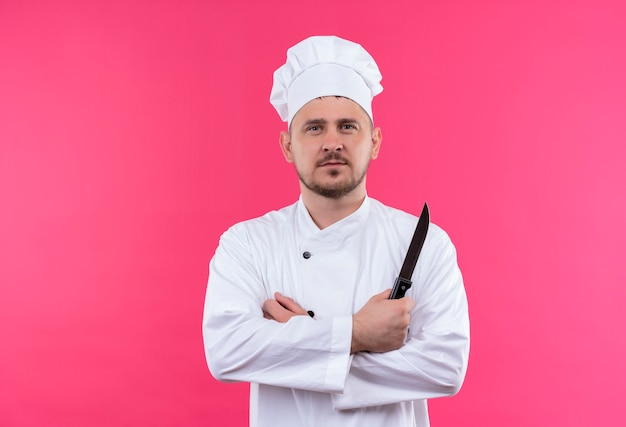knife: (392, 201, 431, 284)
